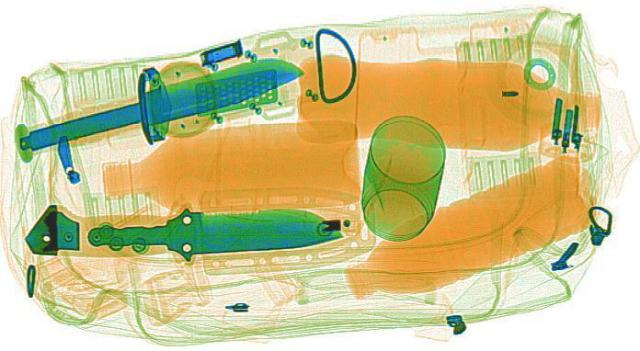Knife: (0, 30, 345, 171), (89, 200, 343, 262)
